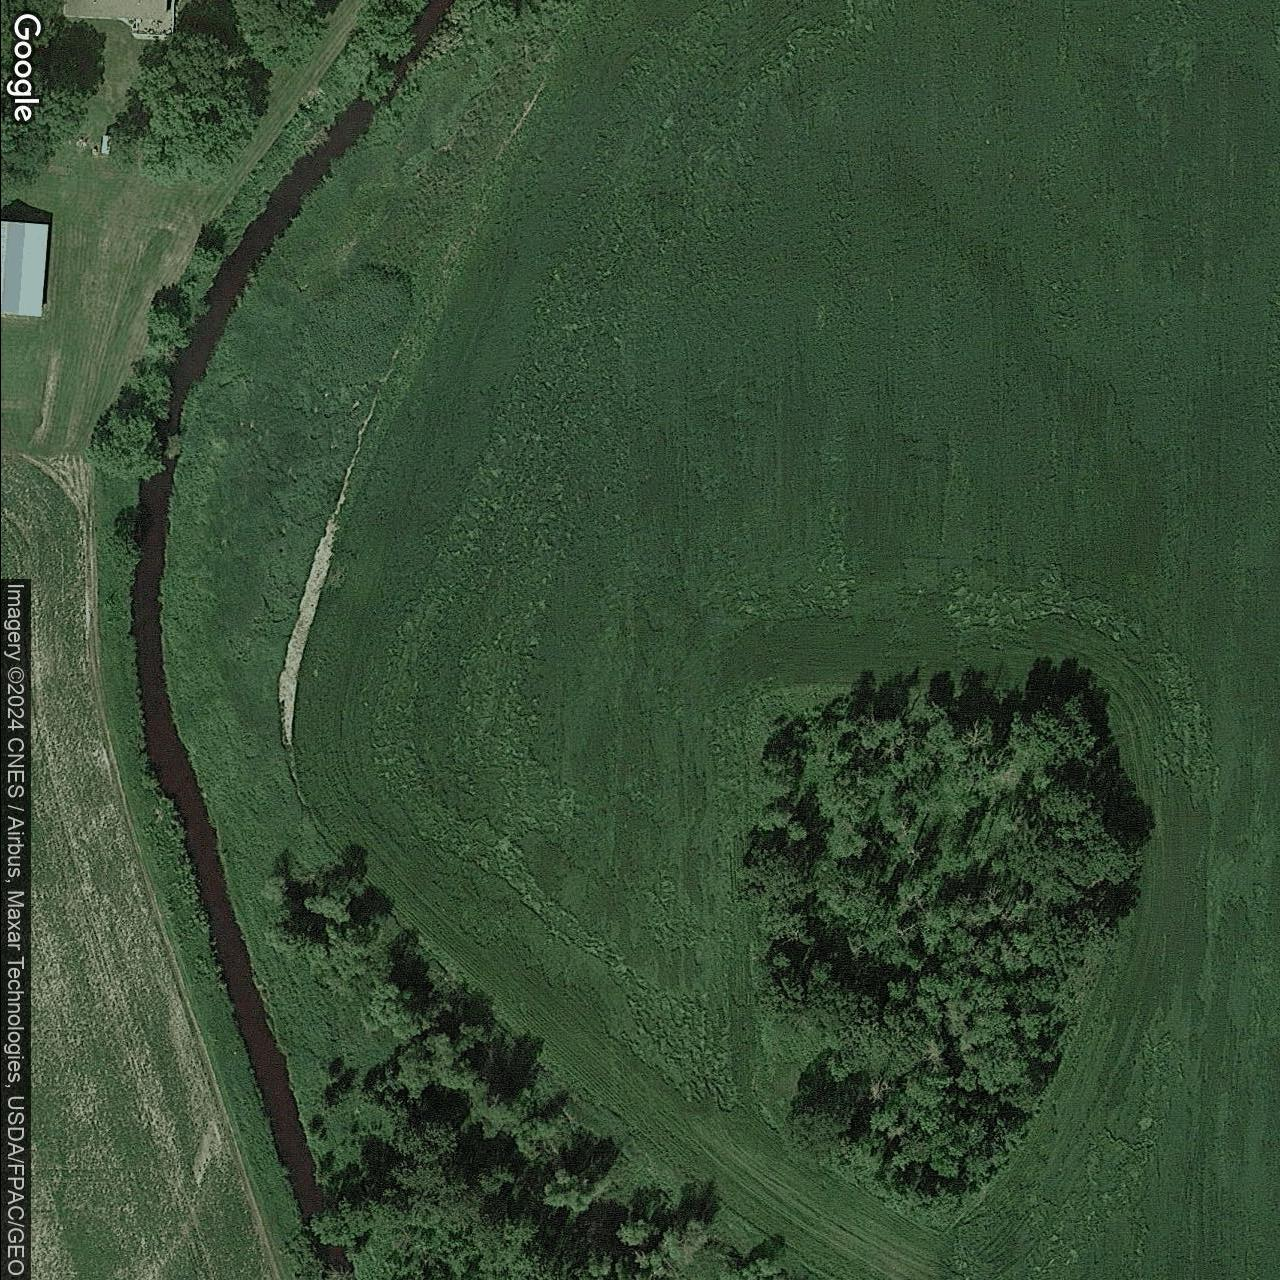House: (1, 220, 52, 318)
